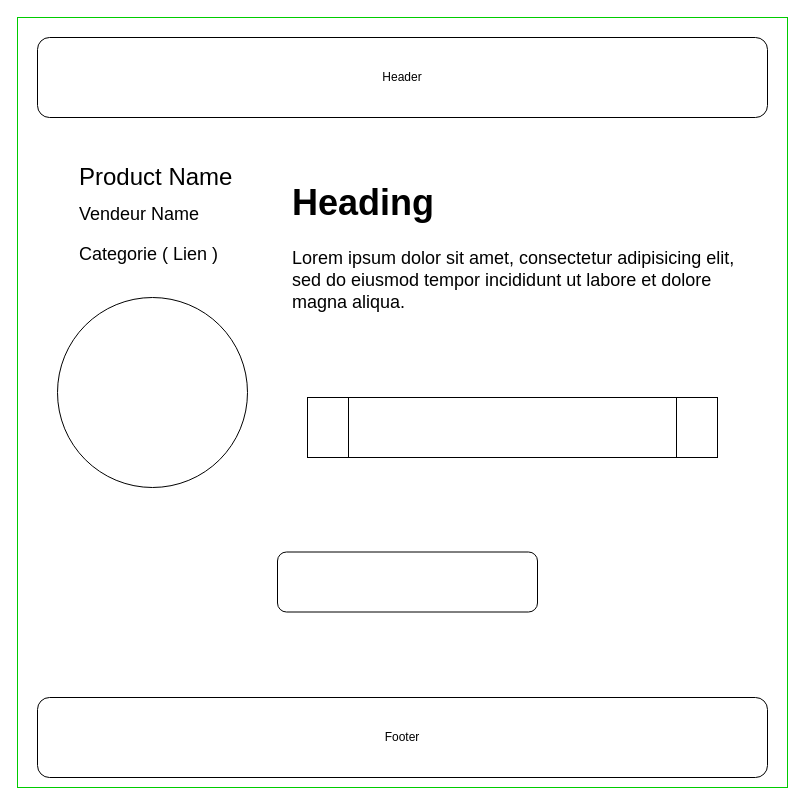
This 805x805 diagram has some shape labels left out. Here are the shapes that lost their labels. From the top down, the centre of each, then its label:
point 512,427: Image
point 407,581: Ajouter au Panier
